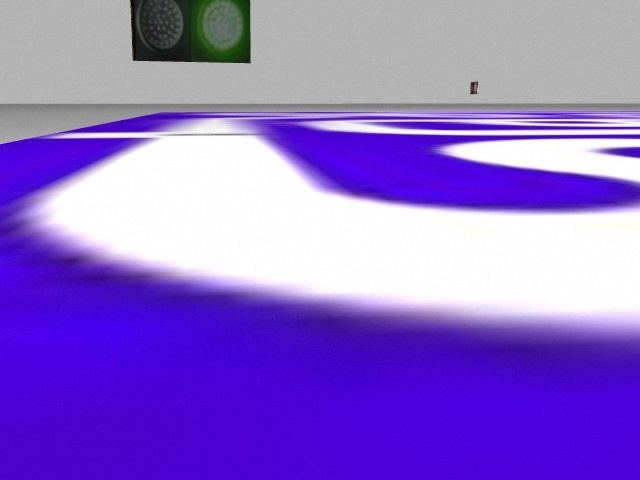green: (191, 1, 253, 60)
